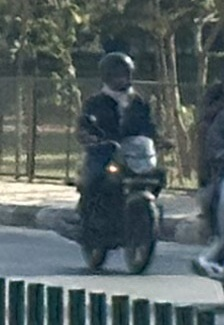BikeWithRider: (52, 46, 179, 278)
Helmet: (93, 47, 140, 94)
